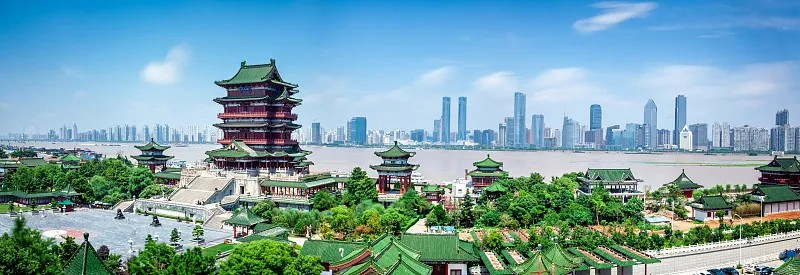Teng: (204, 60, 312, 172)
